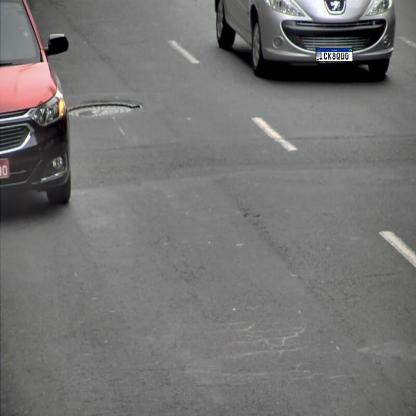PlacaM: (316, 48, 353, 62)
